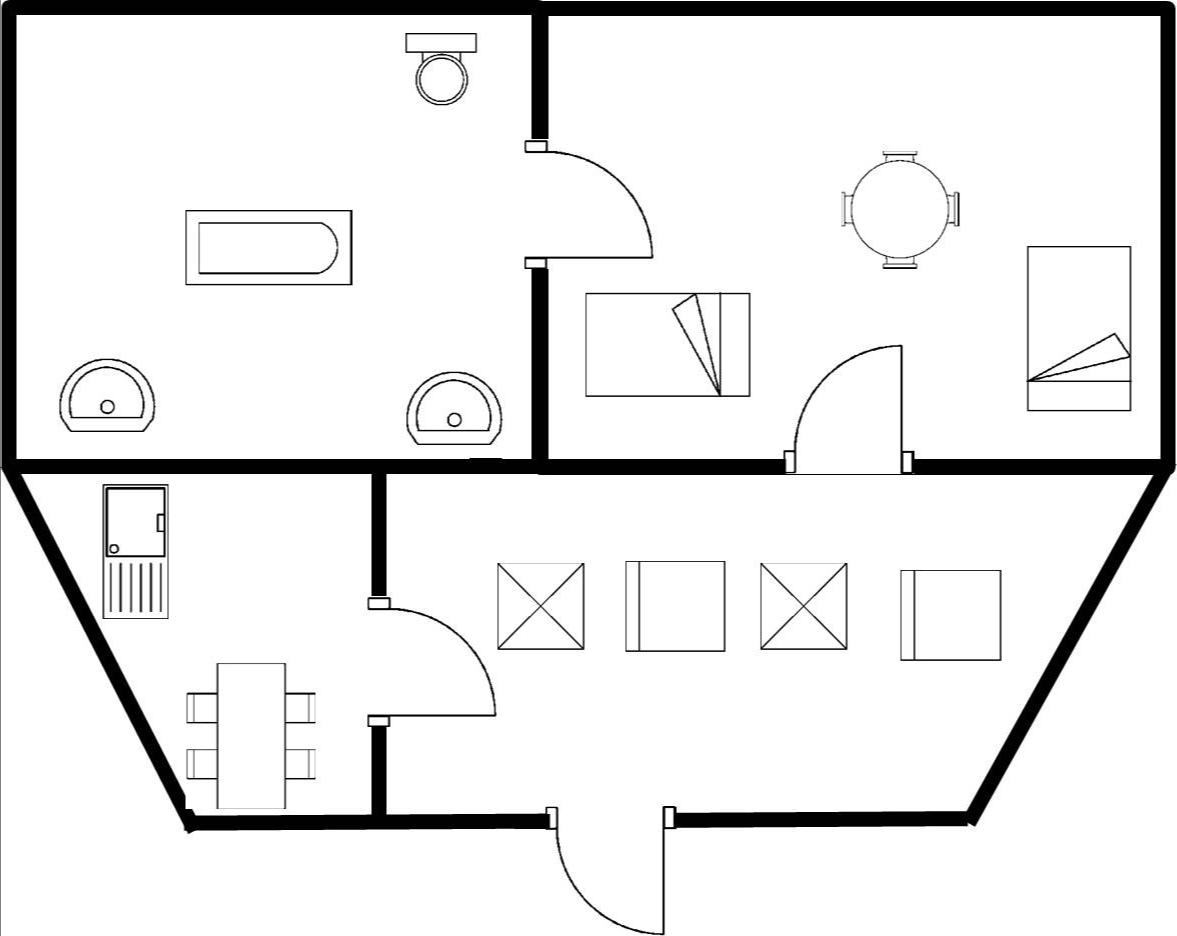bed: (1020, 237, 1140, 419), (578, 285, 762, 401)
dining_table: (180, 653, 324, 816)
round_table: (833, 138, 968, 277)
sink: (96, 476, 176, 628)
toilet: (395, 26, 484, 109)
tub: (171, 202, 362, 292)
